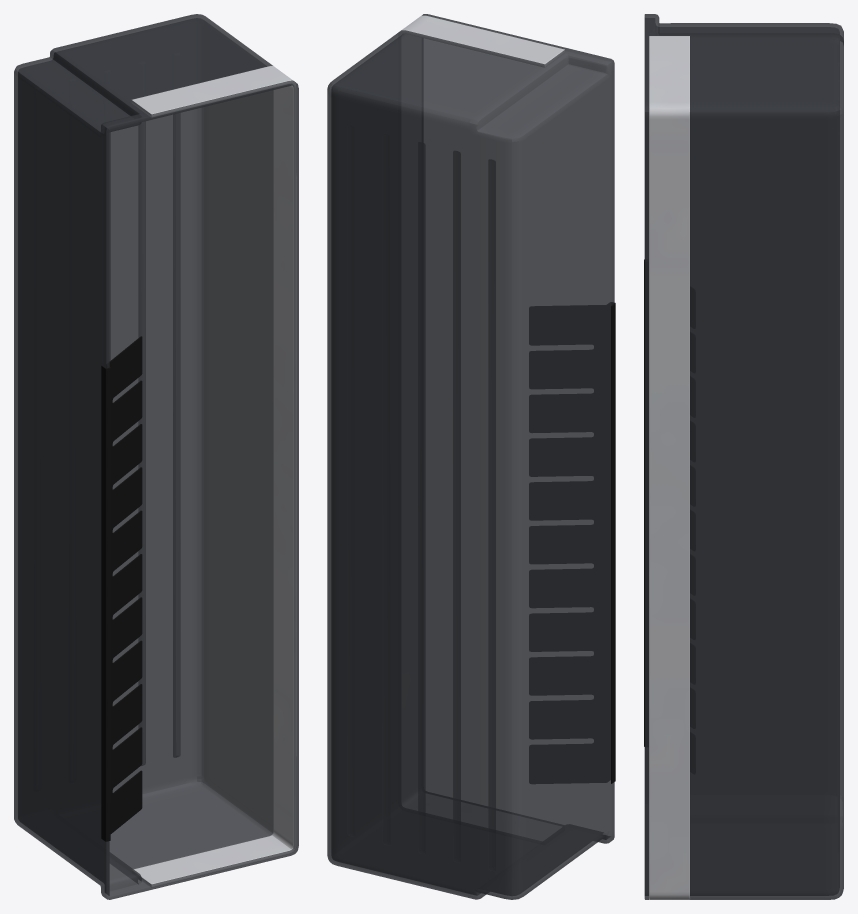
Rendered from SM_Fridge_Door_Tray_01.obj.
The picture shows the model from 3 angles, left to right: view 1: azimuth 30°, elevation 25°; view 2: azimuth 150°, elevation 25°; view 3: azimuth 270°, elevation 25°; orthographic projection. The views are drawn at different scales.
Parts seen in each view (by area): view 1: SM_Fridge_Door_Tray_01; view 2: SM_Fridge_Door_Tray_01; view 3: SM_Fridge_Door_Tray_01.
Boxes of the visible parts, bbox=[...] form: SM_Fridge_Door_Tray_01: bbox=[14, 14, 298, 899]; SM_Fridge_Door_Tray_01: bbox=[327, 14, 615, 899]; SM_Fridge_Door_Tray_01: bbox=[644, 14, 843, 899].
Size of the model in its own units: 0.1105 by 0.422 by 0.0963.
3 materials, 1 textured.
